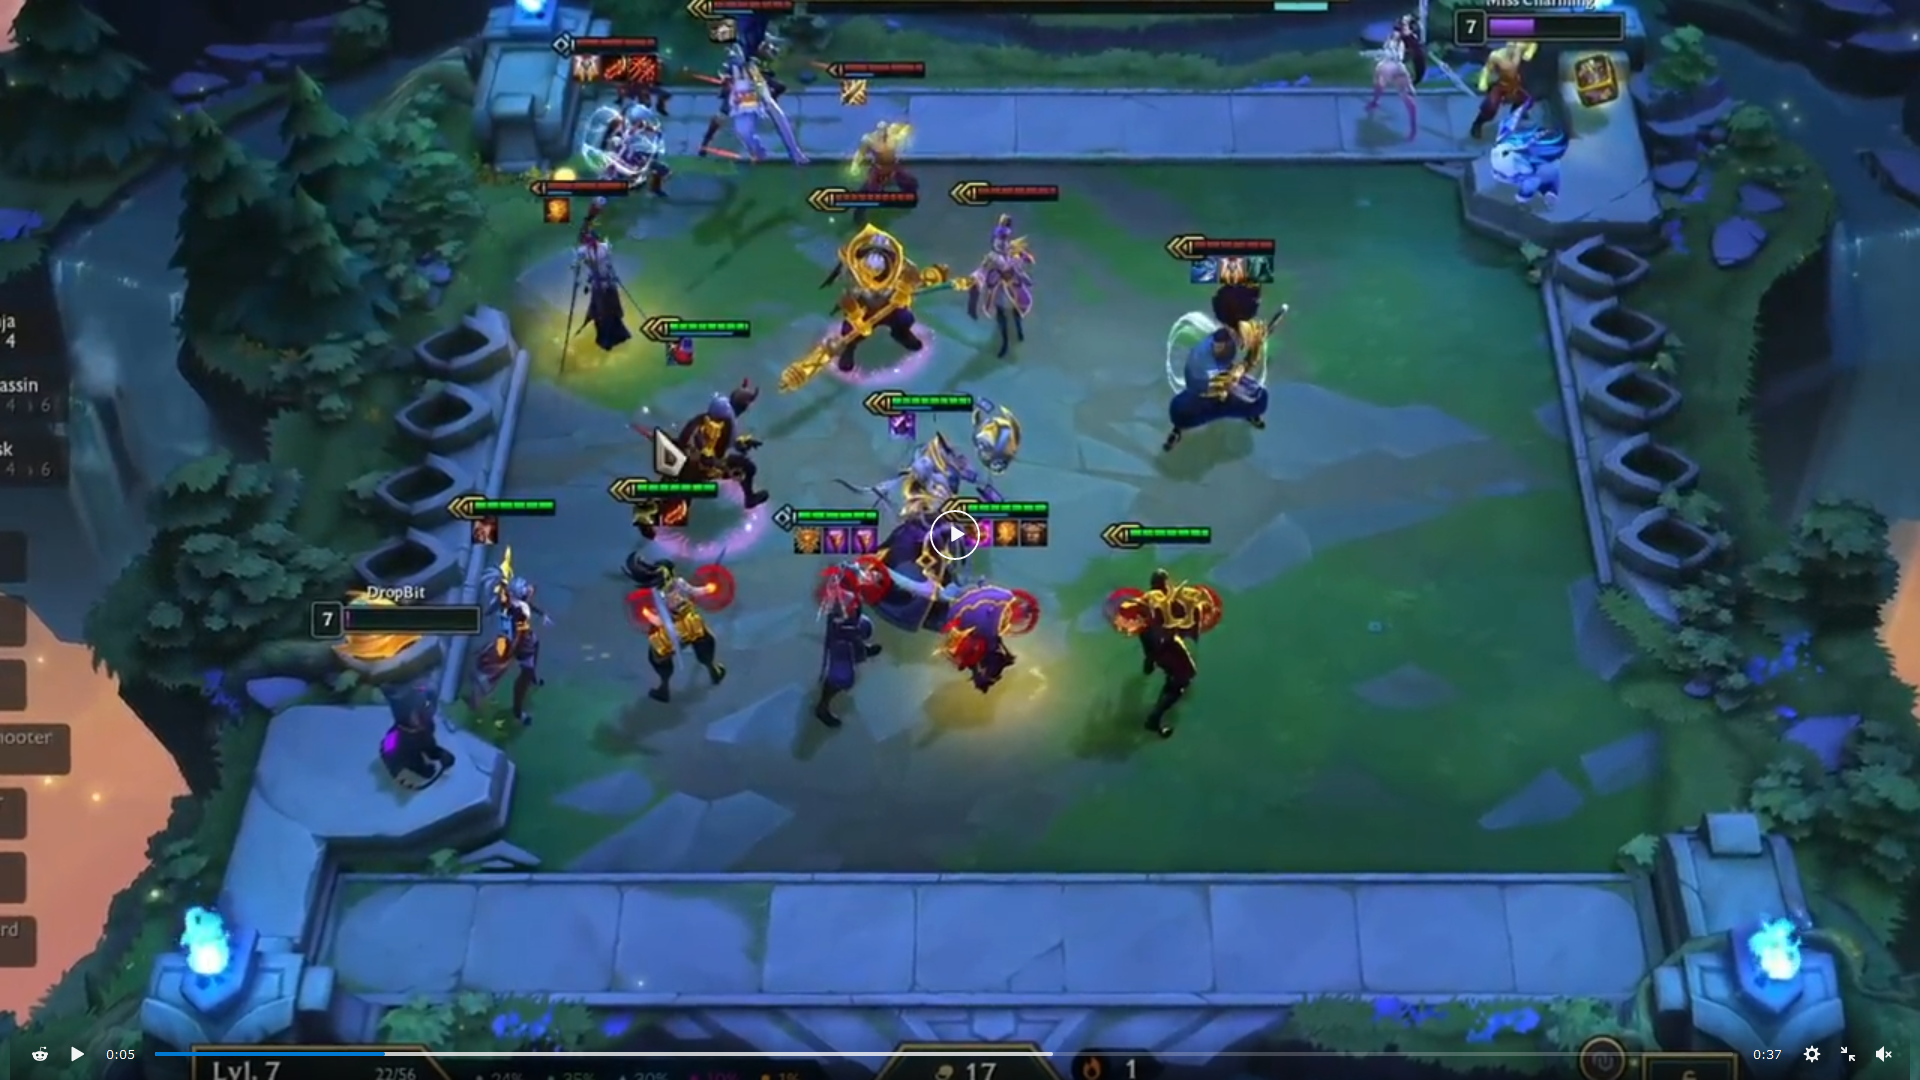1star_leesin: (815, 47, 943, 243)
1star_yone: (512, 167, 676, 382)
2star_kalista: (533, 24, 691, 252)
2star_shen: (767, 495, 903, 752)
3star_akali: (593, 463, 744, 727)
3star_fiora: (895, 167, 1068, 378)
3star_janna: (673, 1, 822, 182)
3star_jax: (766, 179, 955, 404)
3star_kennen: (919, 487, 1062, 717)
3star_pyke: (612, 303, 781, 562)
3star_pyke_chosen: (611, 301, 779, 560)
3star_thresh: (808, 380, 1036, 644)
3star_vayne: (438, 473, 570, 742)
3star_yasuo: (1137, 218, 1305, 477)
3star_zed: (1081, 506, 1232, 770)
item_belt: (705, 13, 738, 49)
item_bow: (630, 495, 663, 531)
item_bramble: (1017, 516, 1050, 551)
item_chalice: (819, 524, 852, 559), (847, 521, 880, 556)
item_ga: (571, 49, 604, 84), (1215, 252, 1247, 287)
item_giantslayer: (1188, 251, 1221, 287)
item_guinsoo: (659, 493, 692, 529), (599, 49, 632, 84)
item_hoj: (989, 516, 1022, 551), (541, 193, 574, 228)
item_jeweledgauntlet: (963, 516, 996, 553)
item_locket: (791, 520, 824, 556)
item_quicksilver: (1245, 251, 1278, 286)
item_runaan: (626, 49, 659, 84)
item_shroud: (665, 332, 698, 368)
item_statikk: (833, 74, 866, 109)
item_zeke: (469, 512, 502, 547)
item_zzrot: (886, 407, 919, 443)
